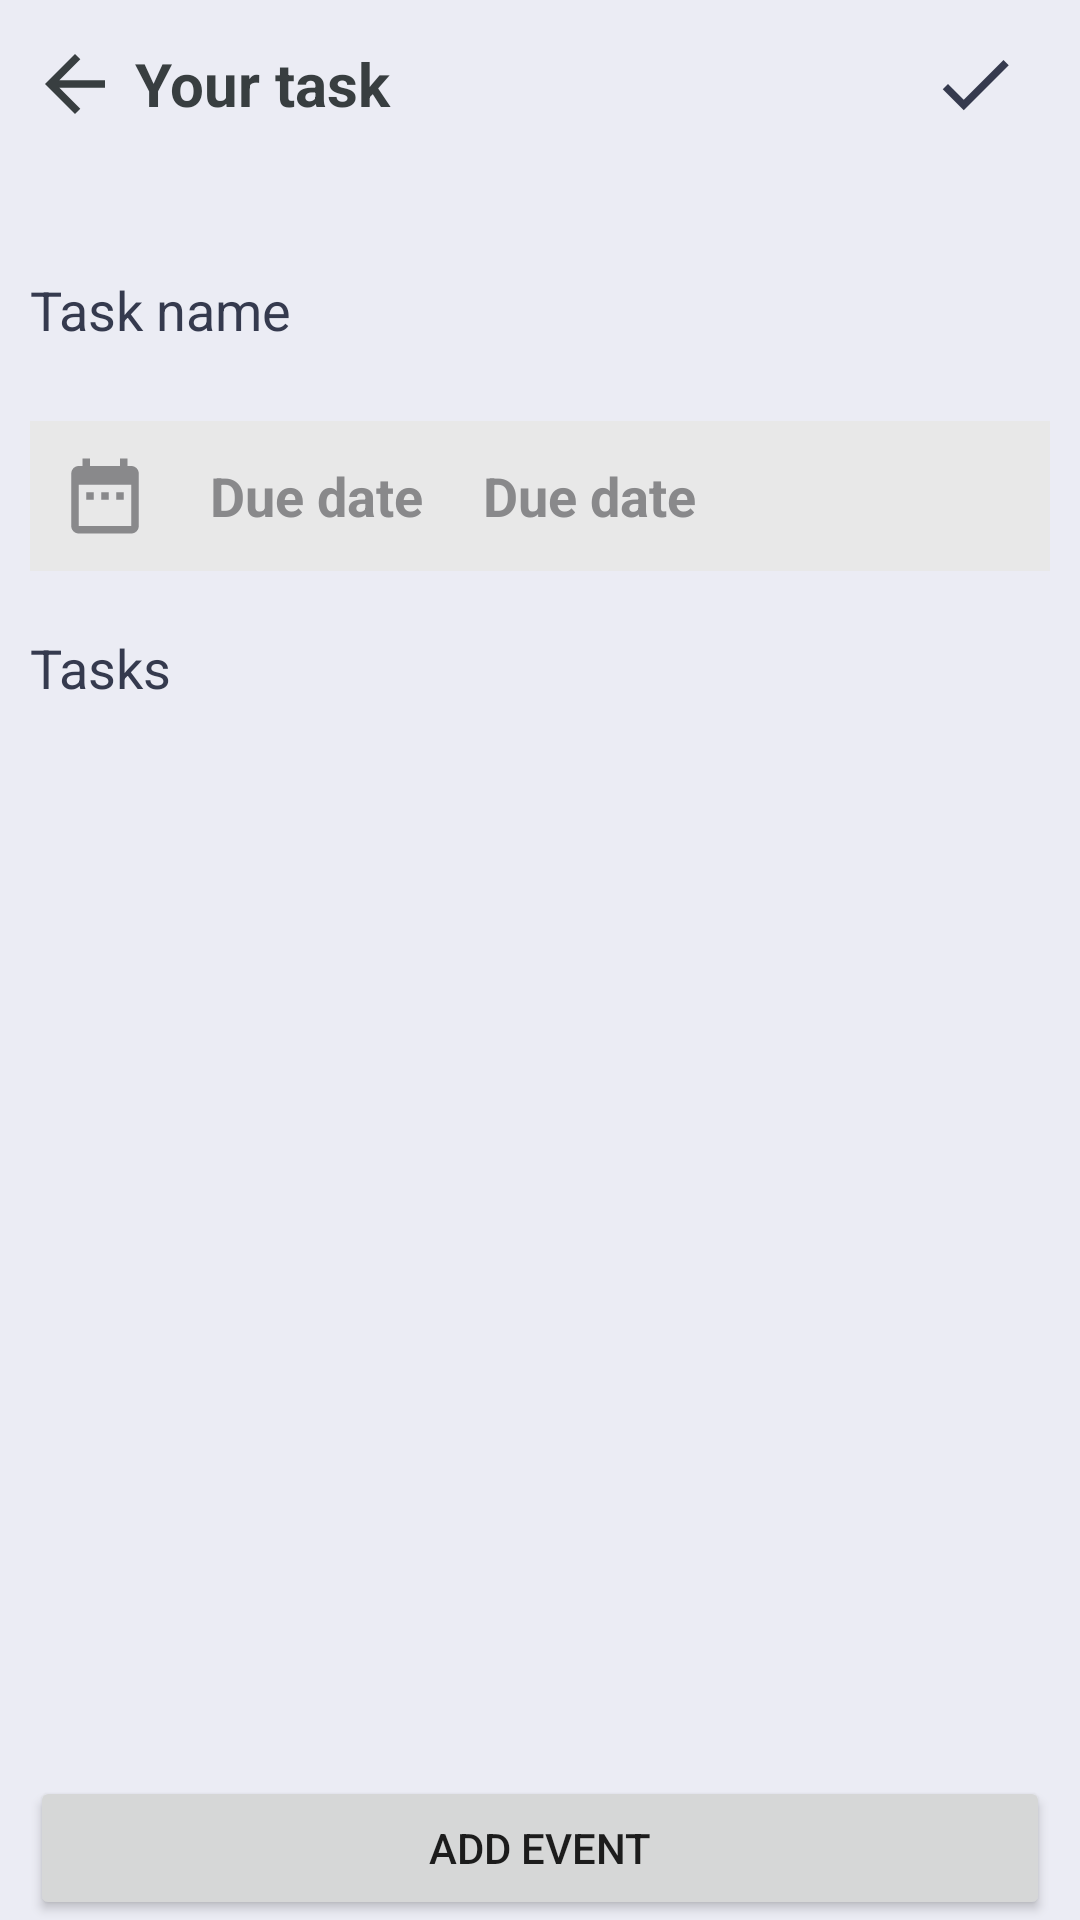

Screen size 1080w x 1920h. Icon name, then its center in pixels as [x,y]:
back: [75,84]
done: [976,85]
